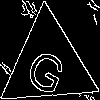G: (23, 39, 73, 98)
